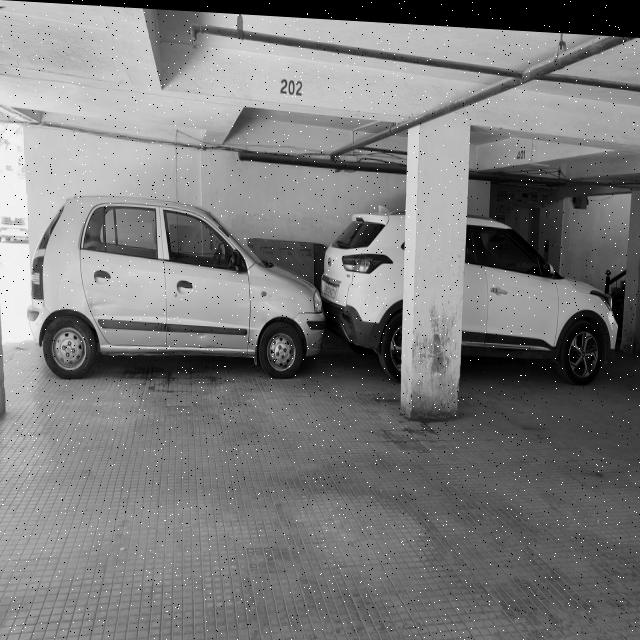car: (30, 182, 328, 400), (316, 193, 626, 391)
